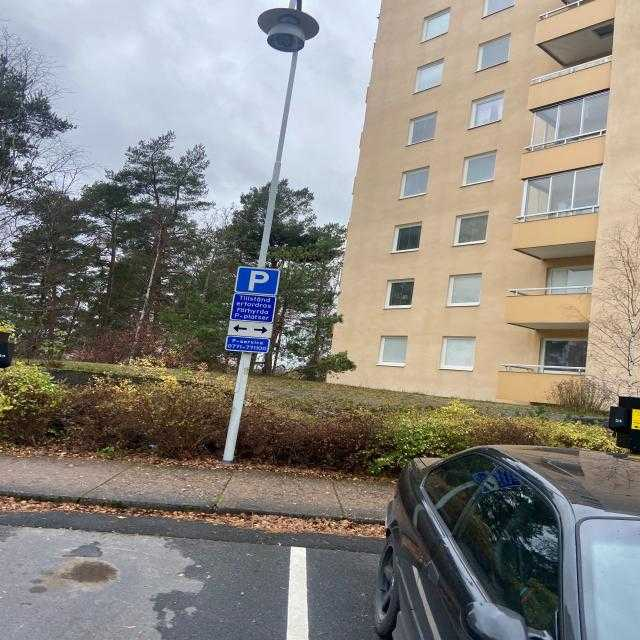psign: (235, 265, 281, 296)
